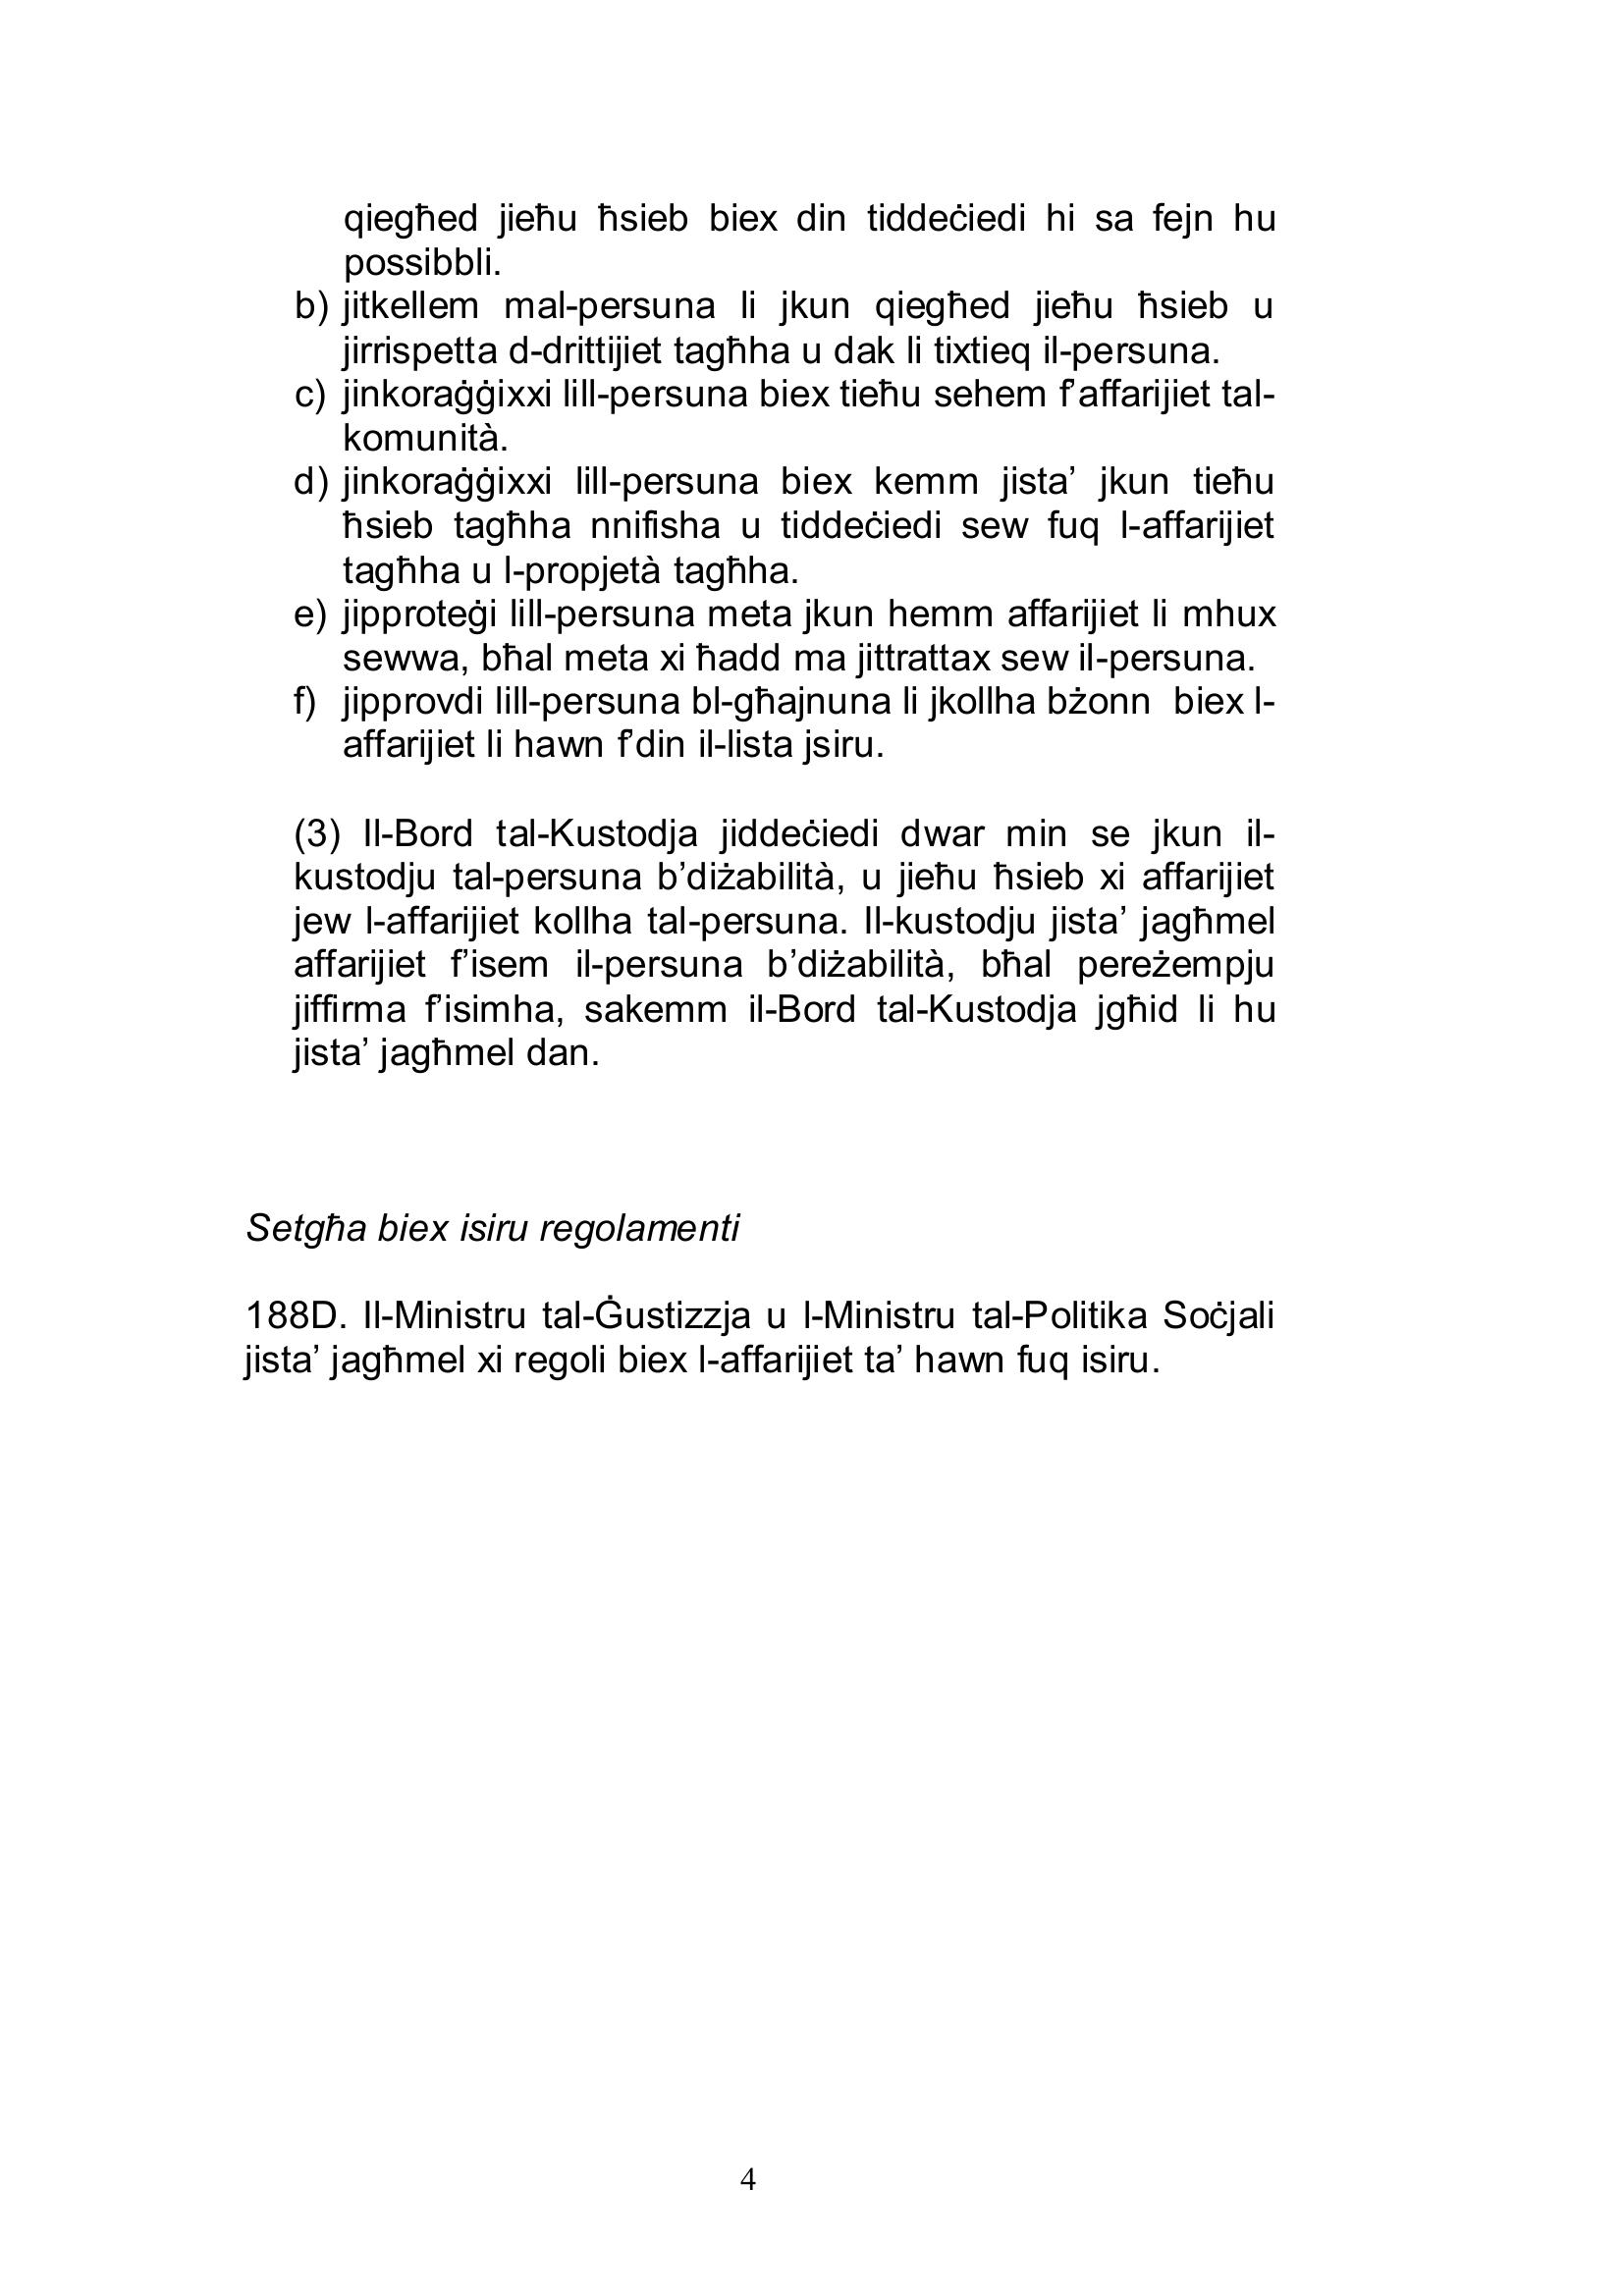text: (214, 155, 1304, 1423)
